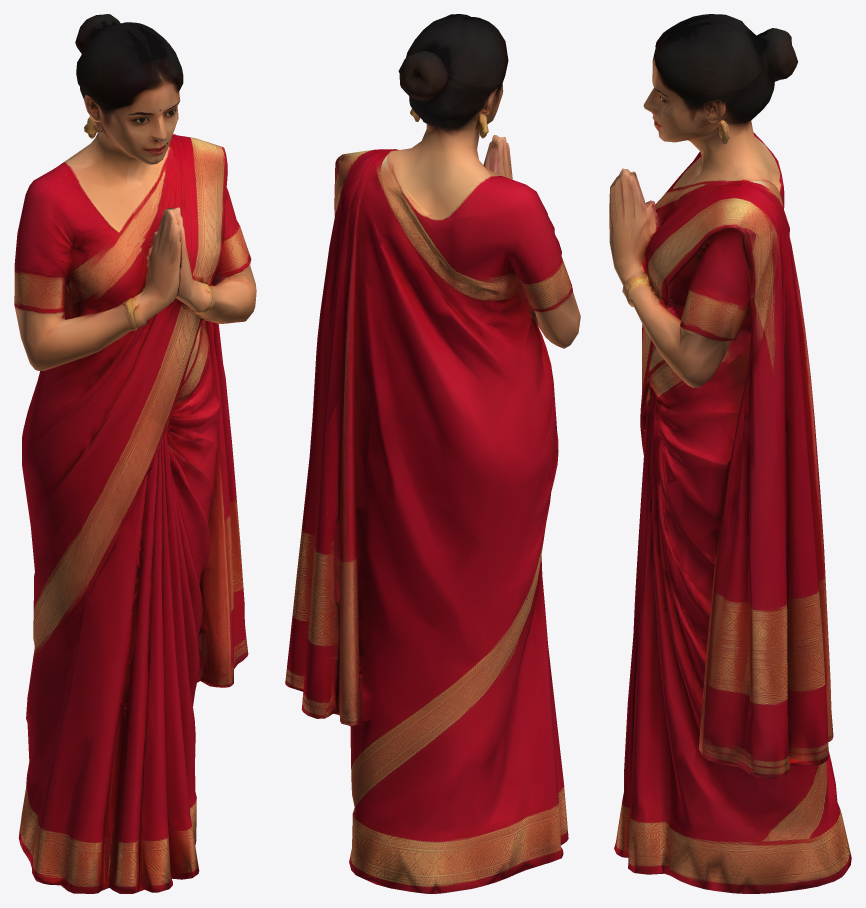
The model's file is saree-hero.glb.
3 views of the same model, side by side, from view 1: azimuth 30°, elevation 25°; view 2: azimuth 150°, elevation 25°; view 3: azimuth 270°, elevation 25° (orthographic). The views are drawn at different scales.
Parts seen in each view (by area): view 1: SareeCloth; view 2: SareeCloth; view 3: SareeCloth.
Part boxes in pixels (bbox=[...]): SareeCloth: bbox=[14, 14, 256, 893]; SareeCloth: bbox=[285, 14, 580, 893]; SareeCloth: bbox=[609, 14, 851, 893].
Size of the model in its own units: 0.5516 by 1.7 by 0.4445.
1 material, 1 textured.
